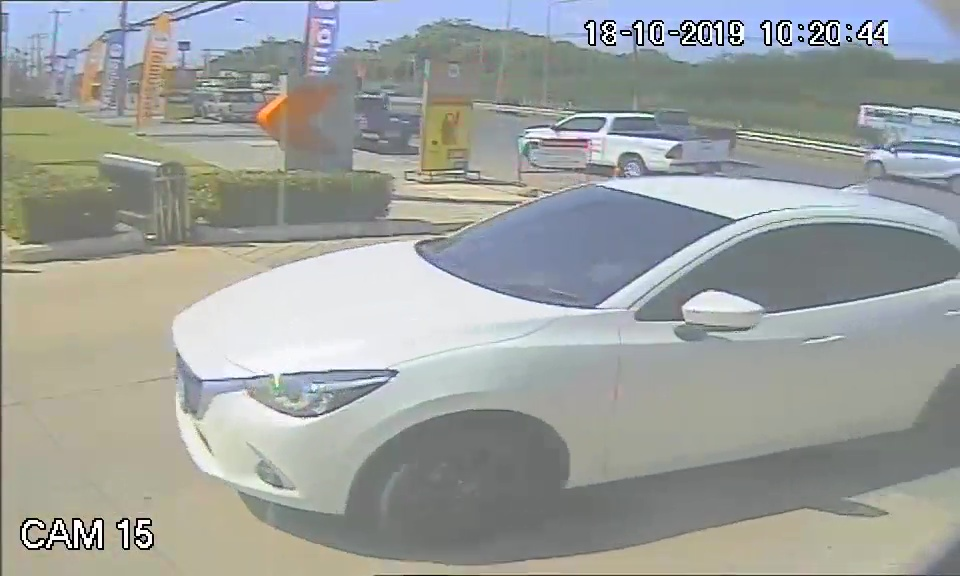sedan: (167, 175, 960, 528)
